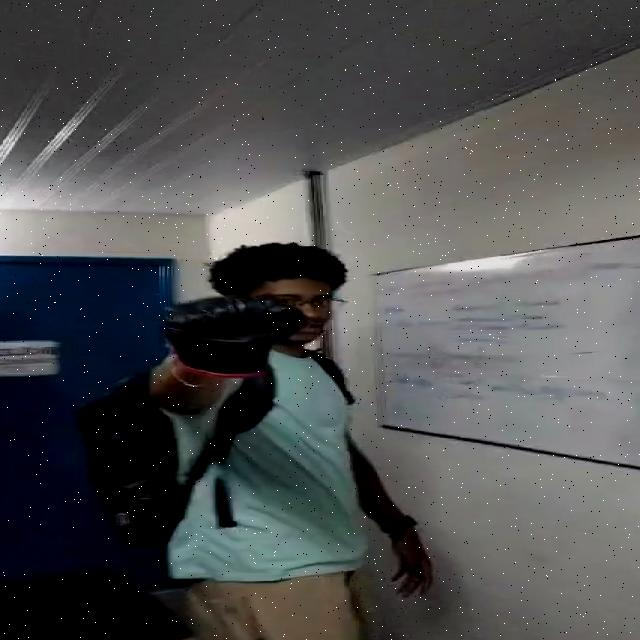Gloves: (163, 297, 309, 375)
